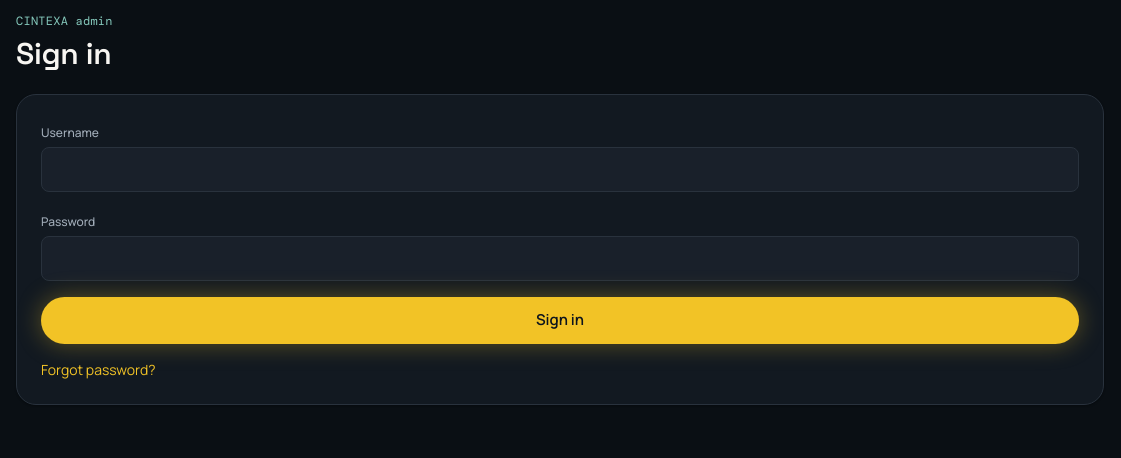
Test: signing in › forgot password needs a username, then asks for a reset link
This screenshot has width=1121, height=458.
Step 1. Click the button "Forgot password?" → click(98, 369), box [41,360,1079,380]
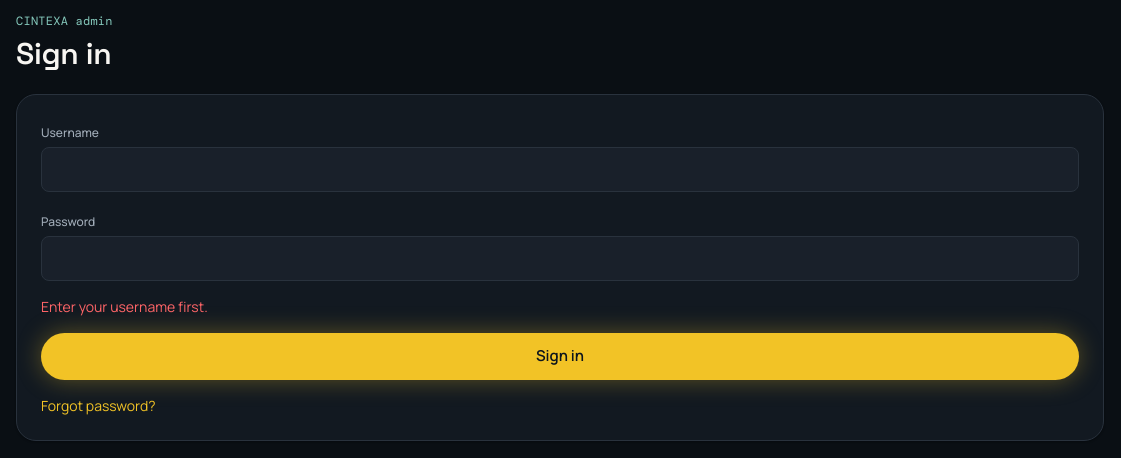
Check: the message reads "Enter your username first.", box [41,297,208,316]
Step 2. Type "kyle.admin" into the field labelled "Username" → (560, 169), box [41,146,1079,192]
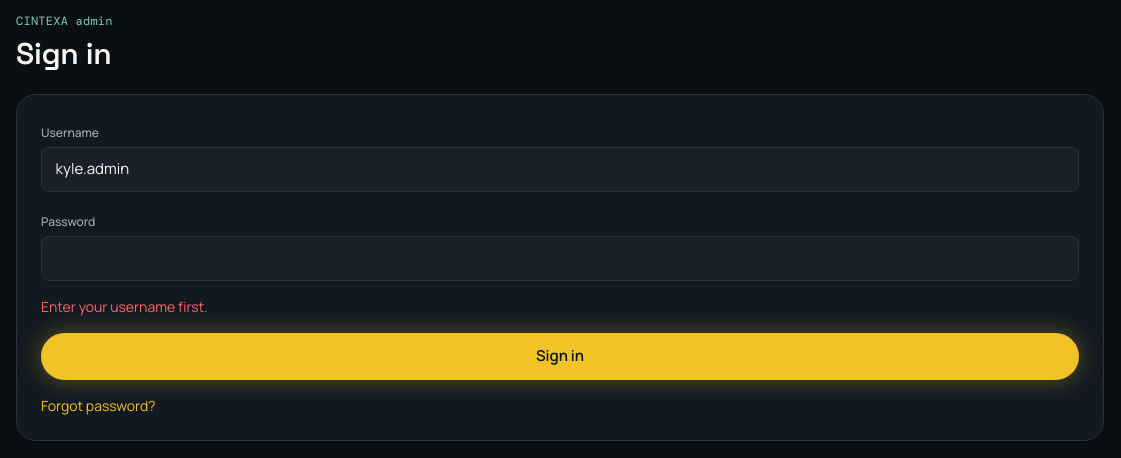
Step 3. Click the button "Forgot password?" → click(98, 405), box [41,396,1079,416]
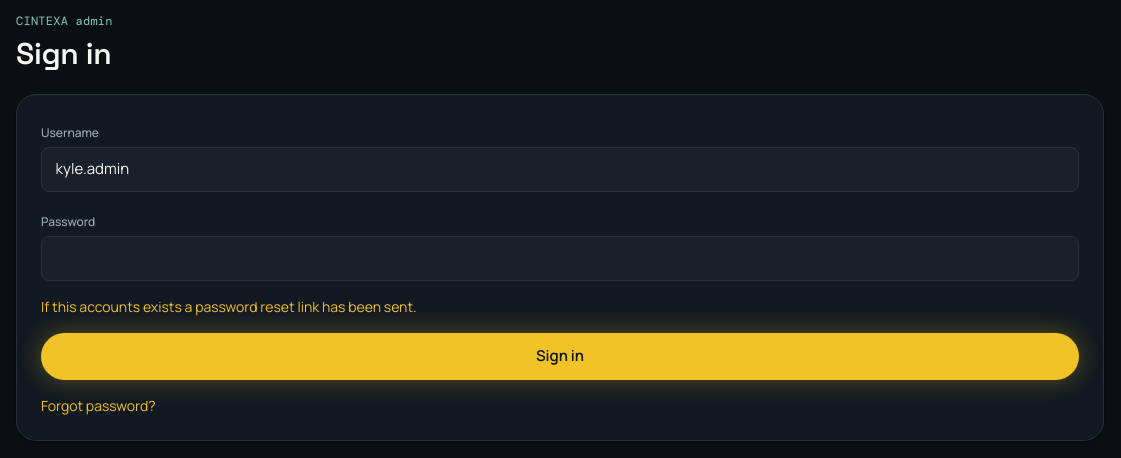
Check: the message reads "If this accounts exists a password reset link has been sent.", box [41,297,417,316]
